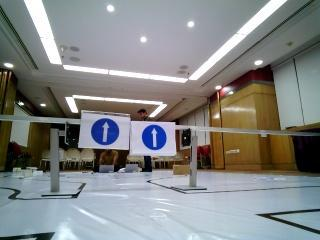straight: (79, 112, 129, 151), (128, 121, 177, 157)
